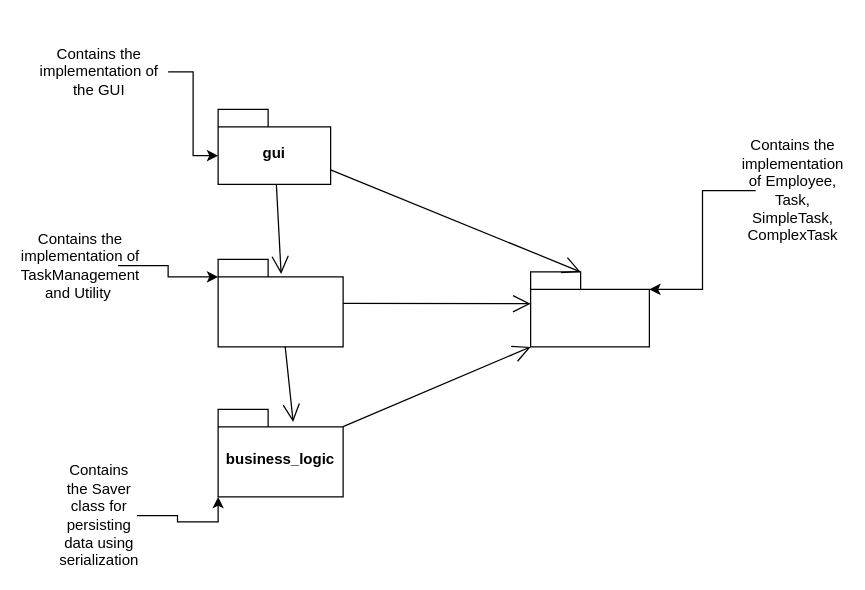
Some shapes in this 865 by 590 pixel diagram are drawn without their labels. Here are the shapes that lost their labels. From the top down, the centre of each, then its label:
At [280,302]: "data_access".
At [589,309]: "data_model".
